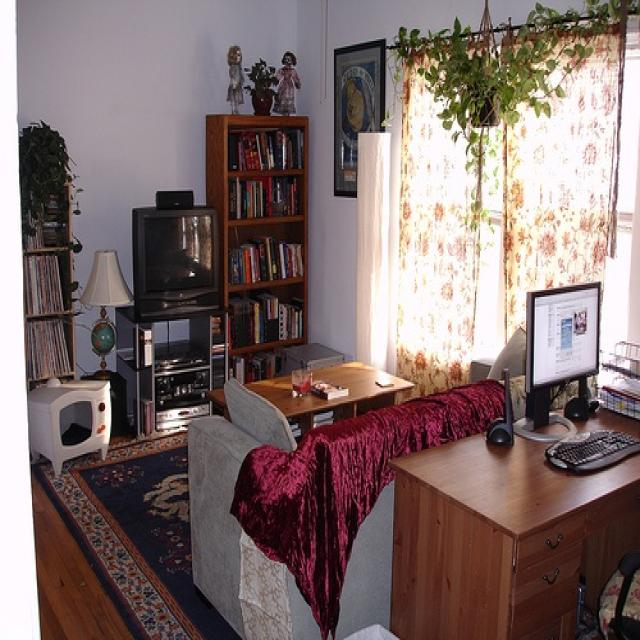pottedplant: (389, 2, 639, 234), (18, 119, 83, 326), (241, 56, 280, 120)
sofa: (186, 333, 585, 638)
tvmonitor: (514, 278, 603, 446), (129, 210, 232, 321)
